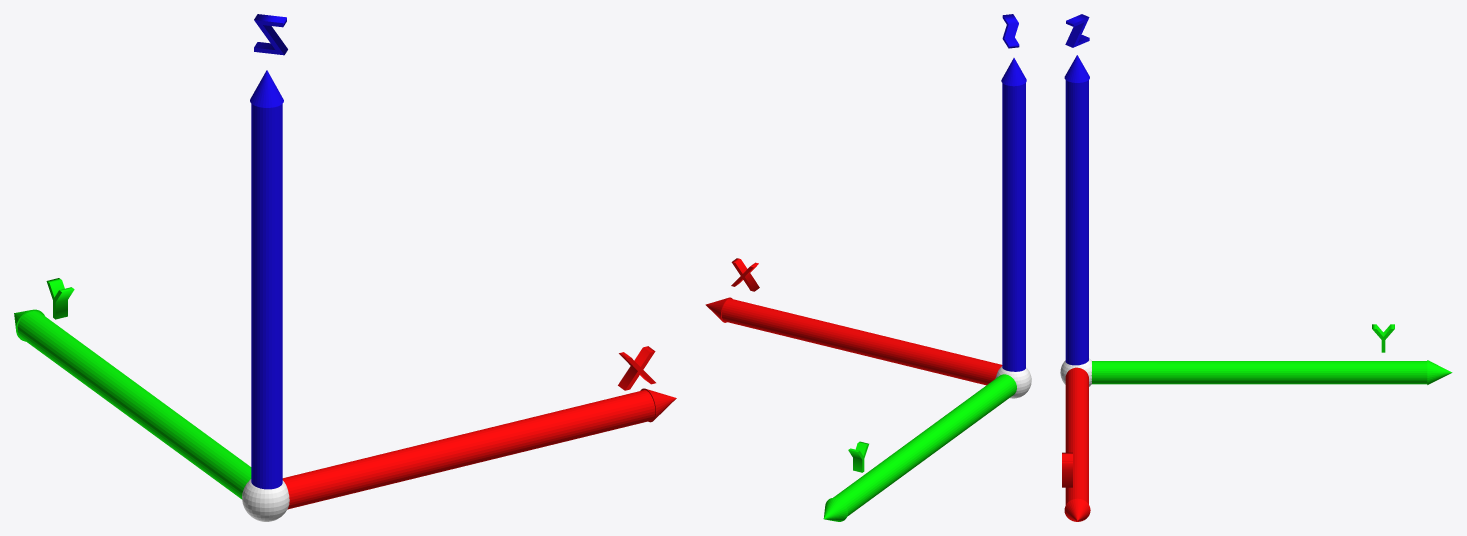
File: referenceSystem.glb
3 renders of one model, left to right at view 1: azimuth 30°, elevation 25°; view 2: azimuth 150°, elevation 25°; view 3: azimuth 270°, elevation 25°, orthographic. The views are drawn at different scales.
Parts seen in each view (by area): view 1: Cylinder.001, Cylinder.002, Cylinder, Sphere, X.002, X.001, Cone.001; view 2: Cylinder.001, Cylinder.002, Cylinder, Sphere, X.001, Cone, X.002, Cone.001, X; view 3: Cylinder, Cylinder.001, Cylinder.002, X.002, Cone.002.
Boxes of the visible parts, x1,y1,x2,y2 form: Cylinder.001: (251, 104, 282, 489); Cylinder.002: (282, 390, 655, 509); Cylinder: (17, 311, 251, 499); Sphere: (242, 479, 289, 521); X.002: (254, 14, 287, 55); X.001: (618, 346, 655, 390); Cone.001: (250, 70, 283, 107); Cylinder.001: (1002, 83, 1025, 371); Cylinder.002: (721, 298, 1002, 385); Cylinder: (833, 374, 1016, 516); Sphere: (995, 366, 1031, 398); X.001: (731, 258, 759, 291); Cone: (823, 497, 847, 521); X.002: (1002, 14, 1019, 48); Cone.001: (1001, 58, 1026, 86); X: (848, 441, 868, 472); Cylinder: (1091, 361, 1427, 384); Cylinder.001: (1065, 80, 1088, 365); Cylinder.002: (1065, 367, 1088, 504); X.002: (1065, 14, 1089, 47); Cone.002: (1064, 498, 1090, 521).
Bounding box in the file's own units: 9.63 × 10.68 × 10.23.
